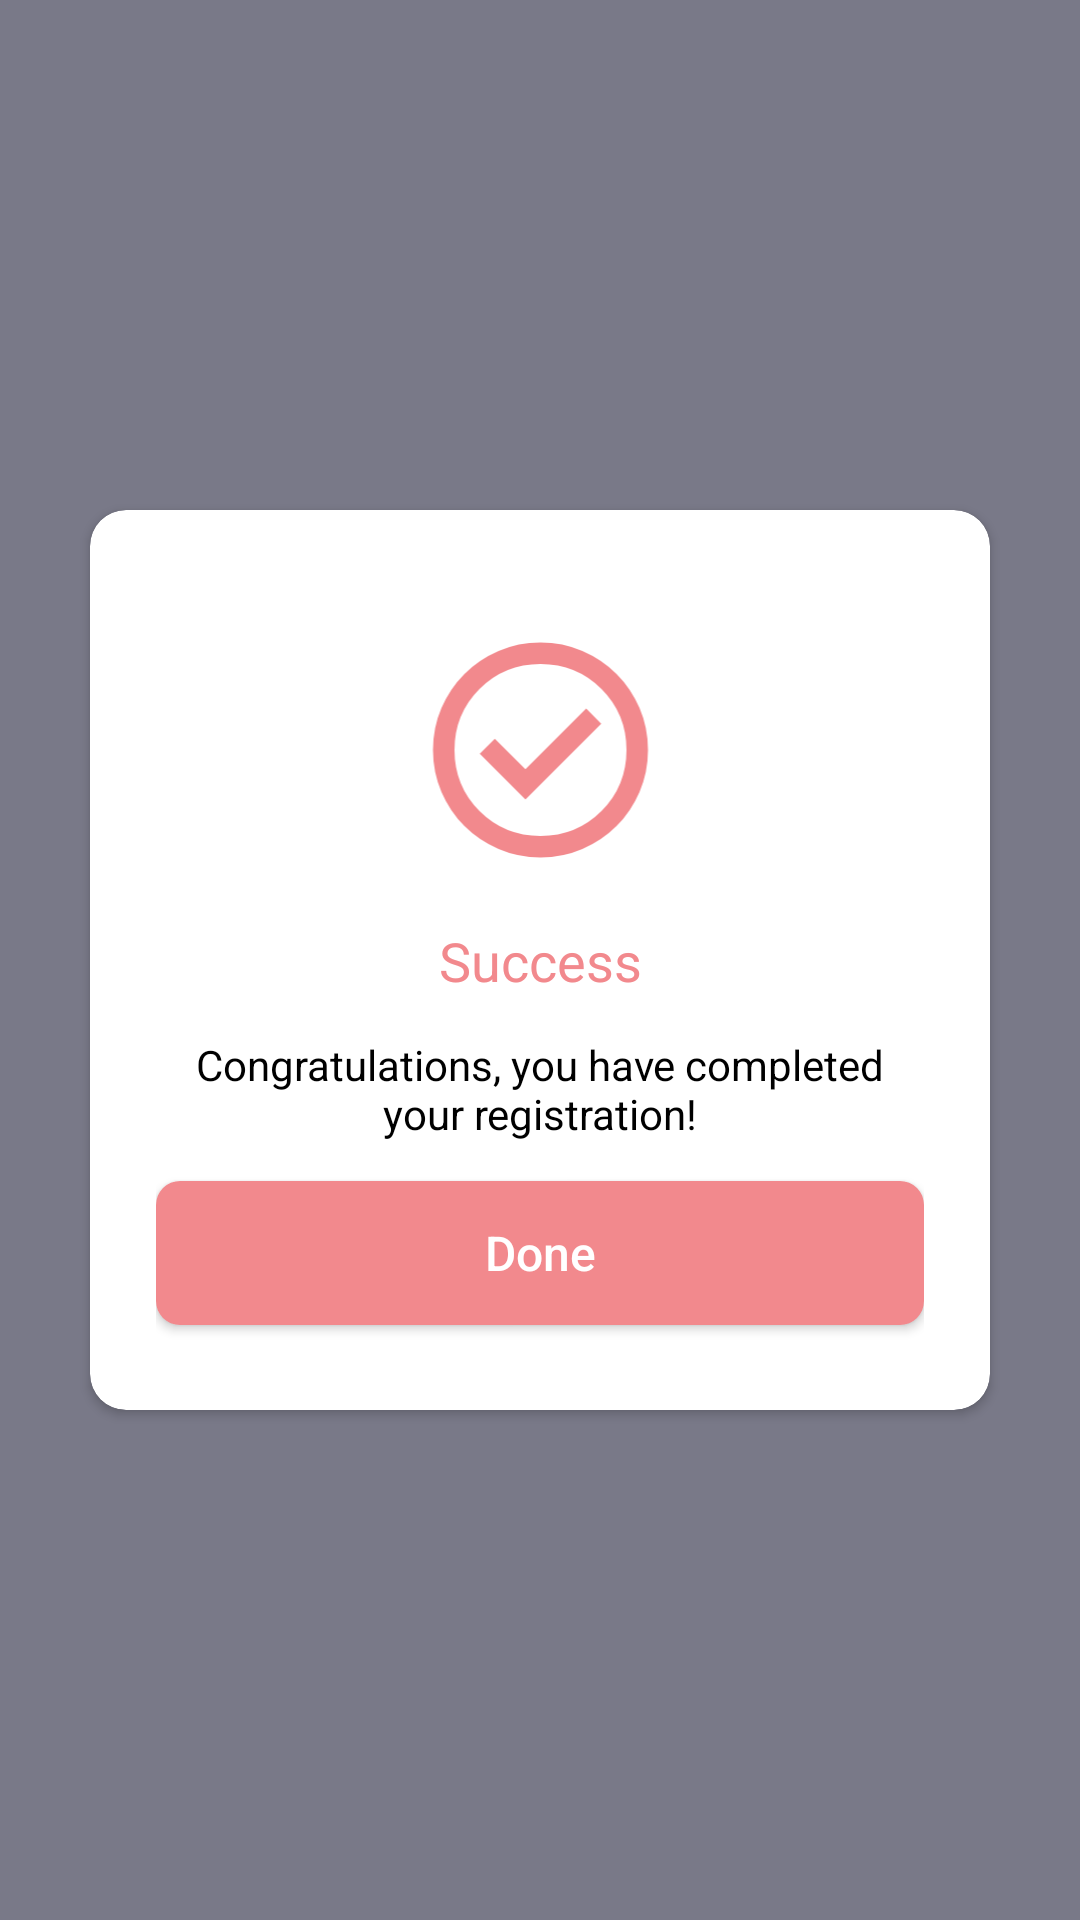

Screen size 1080px x 1920px. Icon name, then its box in pixels as Rect(x1, y1, x2, y2):
tick: Rect(432, 642, 649, 858)
